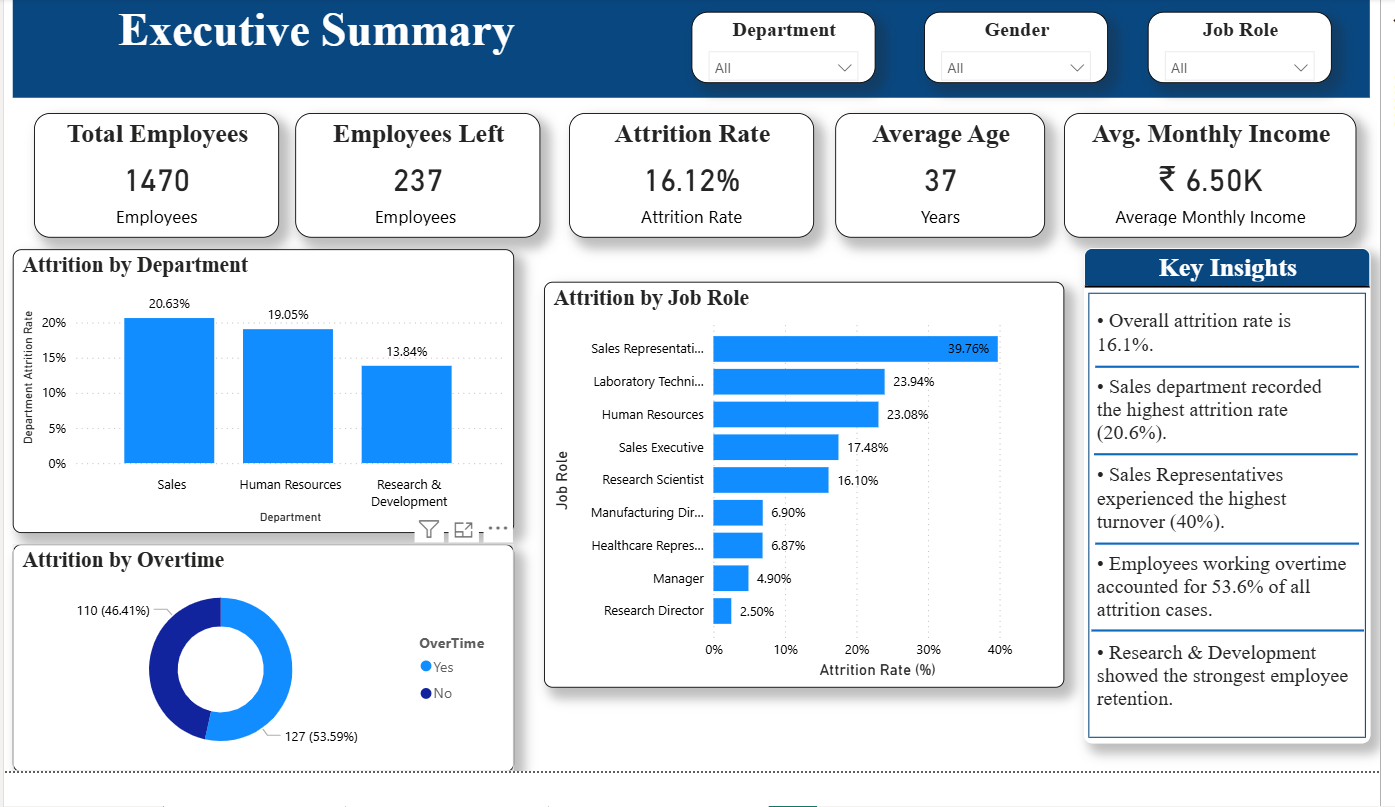

This screenshot's page, from the dashboard's own definition file:
{"tool":"powerbi","page":{"name":"Executive summary","canvas":[1280,720],"ordinal":0},"visuals":[{"type":"textbox","box":[8.1,0,1262.8,93],"z":0},{"type":"slicer","title":"Department","fields":{"Values":["WA_Fn-UseC_-HR-Employee-Attrition.Department"]},"box":[639.5,12.8,170.9,66.3],"z":1},{"type":"slicer","title":"Gender","fields":{"Values":["WA_Fn-UseC_-HR-Employee-Attrition.Gender"]},"box":[855.8,12.8,170.9,66.3],"z":2},{"type":"slicer","title":"Job Role","fields":{"Values":["WA_Fn-UseC_-HR-Employee-Attrition.JobRole"]},"box":[1064,12.8,170.9,66.3],"z":3},{"type":"card","title":"Total Employees","fields":{"Values":["hr_attrition.Total Employees"]},"box":[27.9,107,227.9,116.3],"z":4},{"type":"card","title":"Employees Left","fields":{"Values":["hr_attrition.Employees Left"]},"box":[270.9,107,227.9,116.3],"z":5},{"type":"card","title":"Attrition Rate","fields":{"Values":["hr_attrition.Attrition Rate"]},"box":[525.6,107,227.9,116.3],"z":6},{"type":"card","title":"Average Age","fields":{"Values":["hr_attrition.Average Age"]},"box":[773.3,107,195.3,116.3],"z":7},{"type":"card","title":"Avg. Monthly Income","fields":{"Values":["hr_attrition.Average Monthly Income"]},"box":[986,107,272.1,116.3],"z":8},{"type":"columnChart","title":"Attrition by Department","fields":{"Category":["hr_attrition.Department"],"Y":["hr_attrition.Department Attrition Rate"]},"box":[8.1,233.7,466.3,264],"z":9},{"type":"clusteredBarChart","title":"Attrition by Job Role","fields":{"Category":["hr_attrition.JobRole"],"Y":["hr_attrition.Department Attrition Rate"]},"box":[502.3,264,483.7,377.9],"z":10},{"type":"donutChart","title":"Attrition by Overtime","fields":{"Category":["hr_attrition.OverTime"],"Y":["hr_attrition.Employees Left"]},"box":[8.1,508.1,466.3,211.6],"z":11},{"type":"shape","title":"Key Insights   ","box":[1004.7,232.6,266.3,460.5],"z":17},{"type":"textbox","box":[1011.6,284.9,246.5,388.4],"z":18},{"type":"shape","box":[1011.6,567.4,253.5,41.9],"z":19},{"type":"shape","box":[1014,382.6,245.3,83.7],"z":20},{"type":"shape","box":[1015.1,325.6,245.3,34.9],"z":21},{"type":"shape","box":[1015.1,502.3,245.3,10.5],"z":22}]}

Visuals, with their boxes in screenshot pixels (x1, y1, x2, y2), scaled from the page's 1280x720 canvas onto the 1395x807 screenshot:
textbox: x1=9, y1=0, x2=1385, y2=104
"Department" slicer: x1=697, y1=14, x2=883, y2=89
"Gender" slicer: x1=933, y1=14, x2=1119, y2=89
"Job Role" slicer: x1=1160, y1=14, x2=1346, y2=89
"Total Employees" card: x1=30, y1=120, x2=279, y2=250
"Employees Left" card: x1=295, y1=120, x2=544, y2=250
"Attrition Rate" card: x1=573, y1=120, x2=821, y2=250
"Average Age" card: x1=843, y1=120, x2=1056, y2=250
"Avg. Monthly Income" card: x1=1075, y1=120, x2=1371, y2=250
"Attrition by Department" columnChart: x1=9, y1=262, x2=517, y2=558
"Attrition by Job Role" clusteredBarChart: x1=547, y1=296, x2=1075, y2=719
"Attrition by Overtime" donutChart: x1=9, y1=569, x2=517, y2=806
"Key Insights   " shape: x1=1095, y1=261, x2=1385, y2=777
textbox: x1=1102, y1=319, x2=1371, y2=755
shape: x1=1102, y1=636, x2=1379, y2=683
shape: x1=1105, y1=429, x2=1372, y2=523
shape: x1=1106, y1=365, x2=1374, y2=404
shape: x1=1106, y1=563, x2=1374, y2=575
